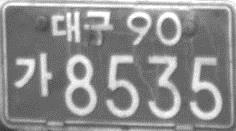0: (155, 11, 183, 45)
3: (145, 53, 182, 120)
5: (105, 53, 140, 119), (188, 55, 223, 120)
8: (64, 52, 98, 118)
9: (125, 10, 154, 48)
가: (14, 51, 53, 99)
대구_O: (49, 8, 116, 48)
